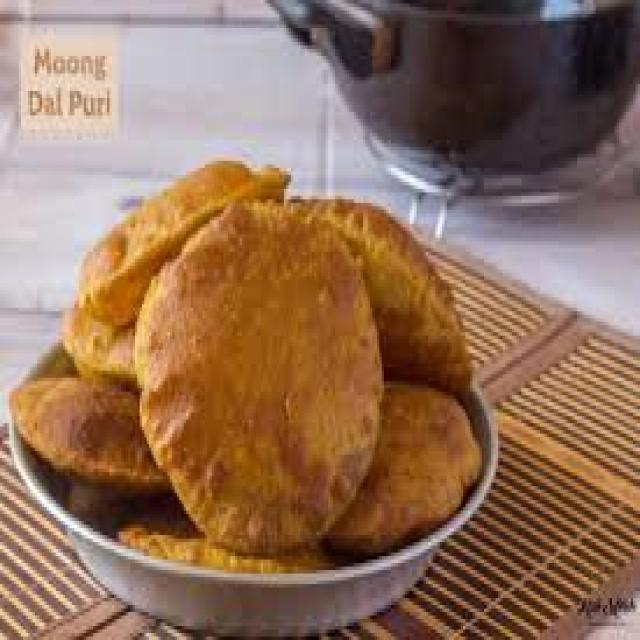puri: (44, 178, 478, 556)
